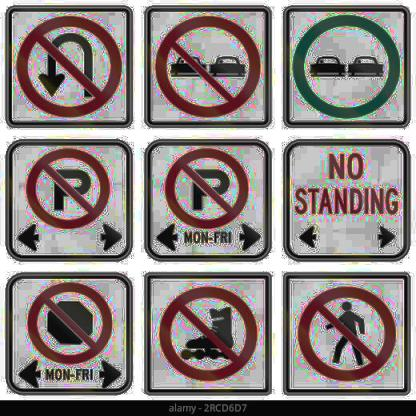No U-turn: (6, 7, 132, 126)
